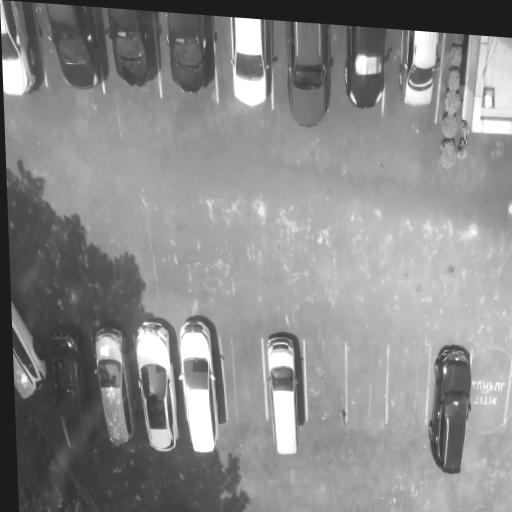Car: (128, 309, 184, 459), (170, 316, 227, 460), (41, 328, 100, 460), (425, 334, 474, 486), (87, 321, 142, 453), (263, 321, 305, 473), (280, 21, 333, 139), (42, 3, 104, 98), (222, 16, 273, 115), (163, 12, 213, 107), (339, 25, 390, 118), (105, 8, 157, 99), (392, 29, 445, 117), (11, 295, 50, 404), (0, 0, 39, 105)
Space Available: (219, 339, 266, 422), (387, 347, 432, 430), (468, 349, 512, 431), (304, 339, 345, 426), (346, 345, 388, 426)
